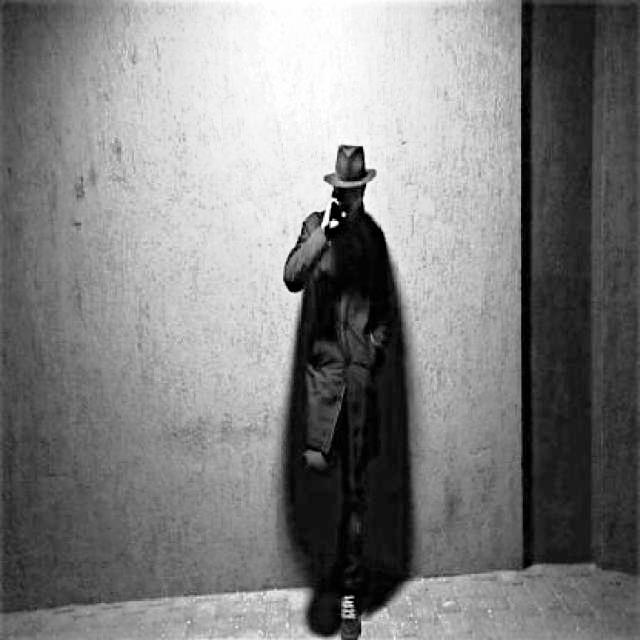Person: (282, 135, 408, 640)
